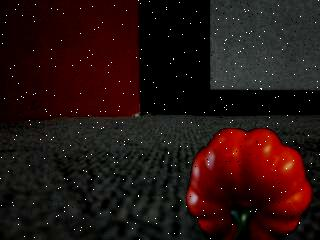Pumpkin: (189, 128, 315, 240)
